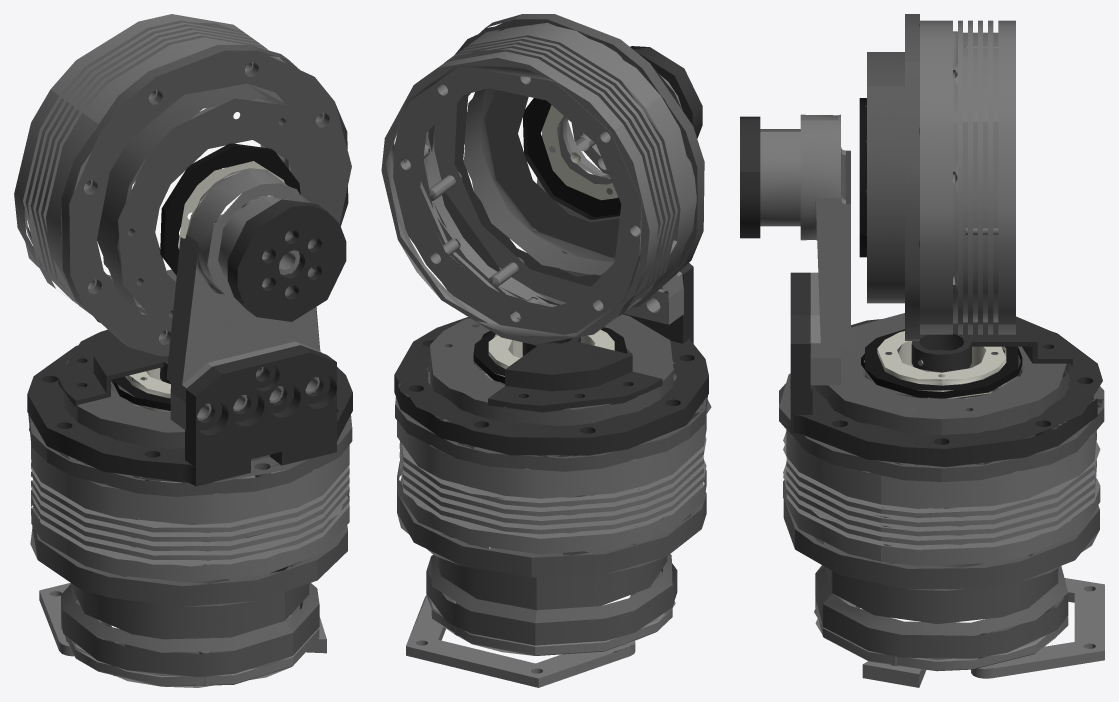
Rendered from armr_elb1_joint.obj.
3 renders of one model, left to right at view 1: azimuth 30°, elevation 25°; view 2: azimuth 150°, elevation 25°; view 3: azimuth 270°, elevation 25°, orthographic. The views are drawn at different scales.
Bounding box in the file's own units: 0.065 × 0.1316 × 0.0724.
1 material, 1 textured.
